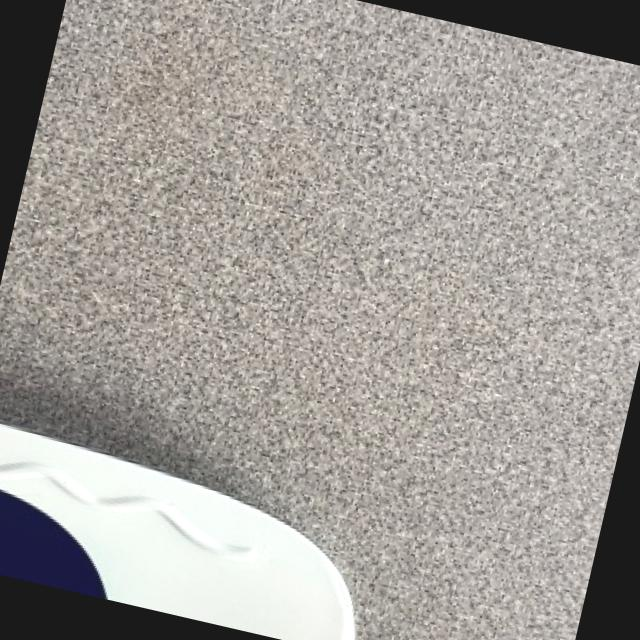healthy: (0, 421, 351, 640)
